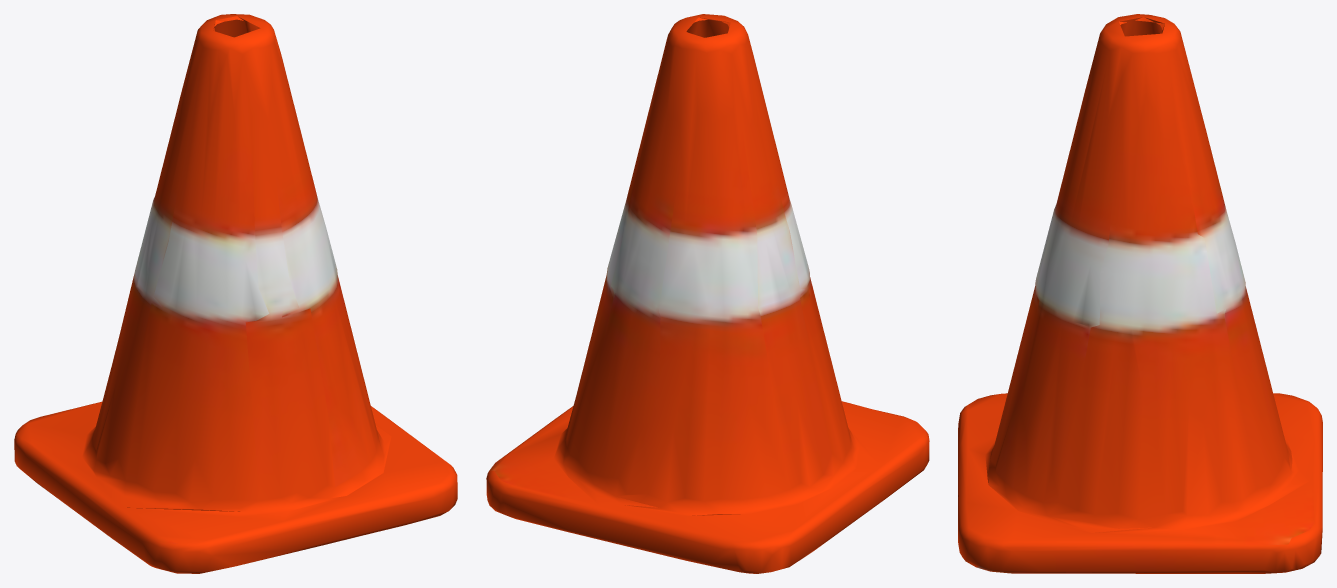
The picture shows the model from 3 angles, left to right: view 1: azimuth 30°, elevation 25°; view 2: azimuth 150°, elevation 25°; view 3: azimuth 270°, elevation 25°; orthographic projection. The views are drawn at different scales.
Visible parts, largest first — view 1: cone; view 2: cone; view 3: cone.
Part boxes in pixels (bbox=[...]): cone: bbox=[14, 14, 457, 573]; cone: bbox=[486, 14, 929, 573]; cone: bbox=[958, 14, 1322, 573].
Bounding box in the file's own units: 0.4911 × 0.7 × 0.4914.
1 material, 1 textured.
